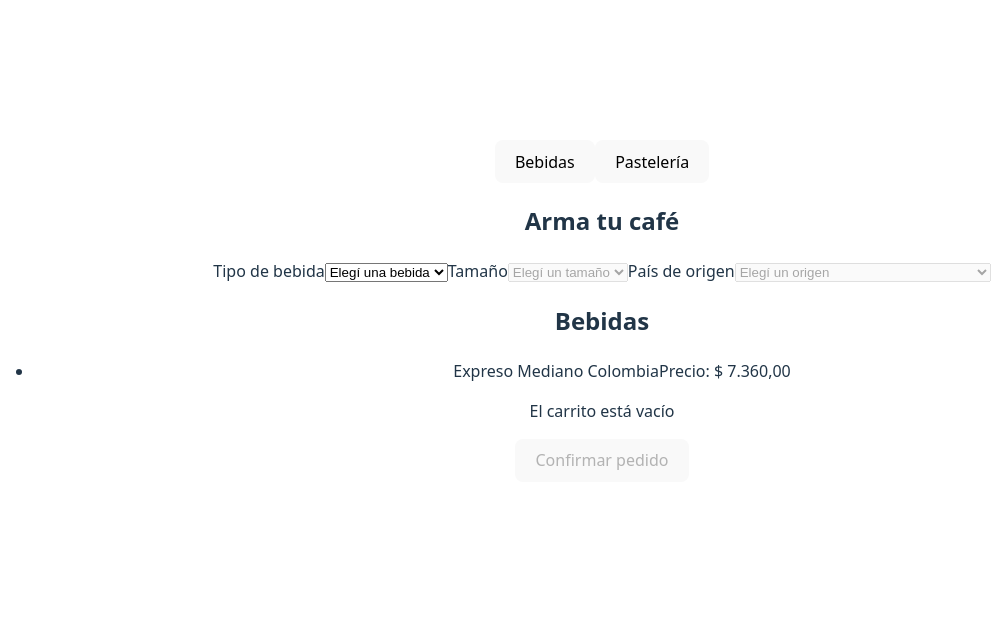
Menu › guia la elección secuencial y agrega la combinación completa al carrito
The width and height of the screenshot is (1008, 627).
expect the dropdown labelled "Tamaño" is disabled: met, box [508, 263, 628, 282]
expect the dropdown labelled "País de origen" is disabled: met, box [735, 263, 991, 282]
Select "Expreso" in the dropdown labelled "Tipo de bebida": (386, 272) [325, 263, 448, 282]
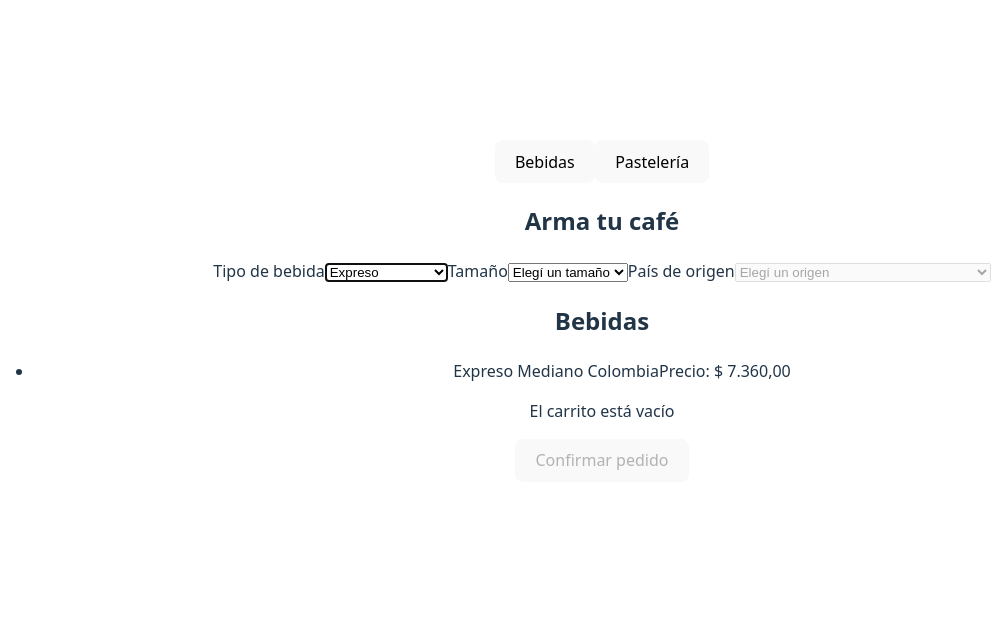
expect the dropdown labelled "País de origen" is disabled: met, box [735, 263, 991, 282]
expect the dropdown labelled "Tamaño" is enabled: met
Select "Mediano" in the dropdown labelled "Tamaño": (568, 272) [508, 263, 628, 282]
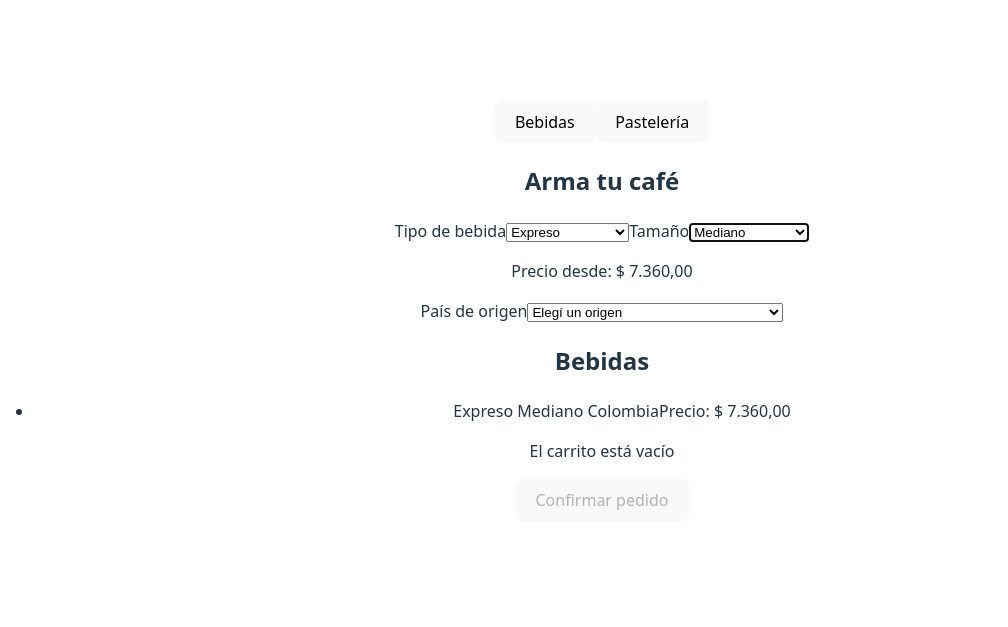
expect the button "Agregar café al carrito" is not shown: met
expect the text "Precio desde: $ 7.360,00" is shown: met, box [511, 260, 693, 282]
expect the dropdown labelled "País de origen" is enabled: met
Select "Colombia — Dulce, equilibrado, frutal." in the dropdown labelled "País de origen": (655, 312) [527, 303, 783, 322]
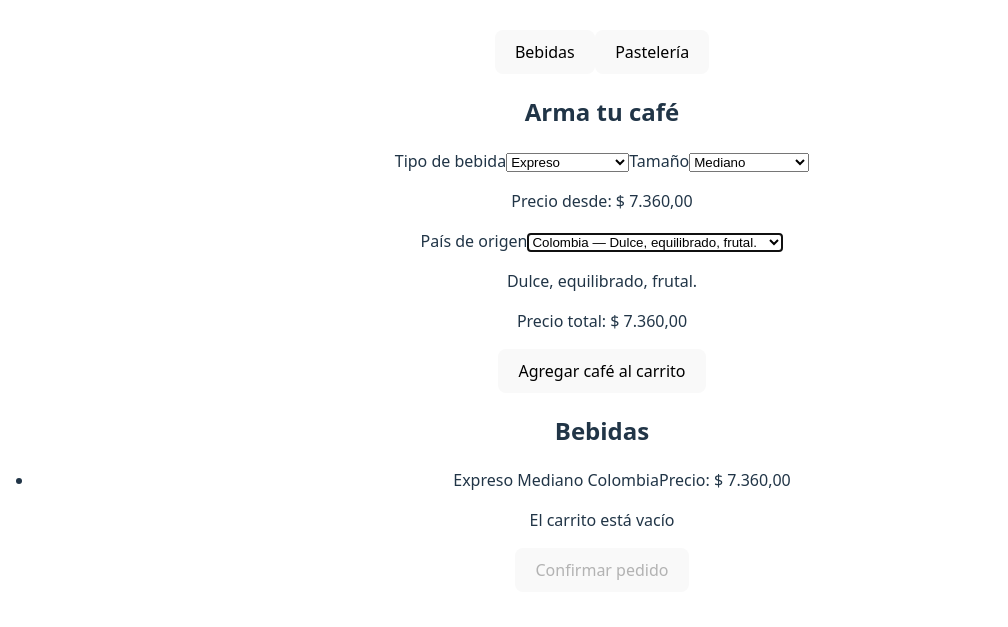
expect the text "Dulce, equilibrado, frutal." is shown: met, box [507, 270, 697, 292]
expect the text "Precio total: $ 7.360,00" is shown: met, box [517, 310, 687, 332]
Click the button "Agregar café al carrito": (602, 371) [498, 349, 706, 393]
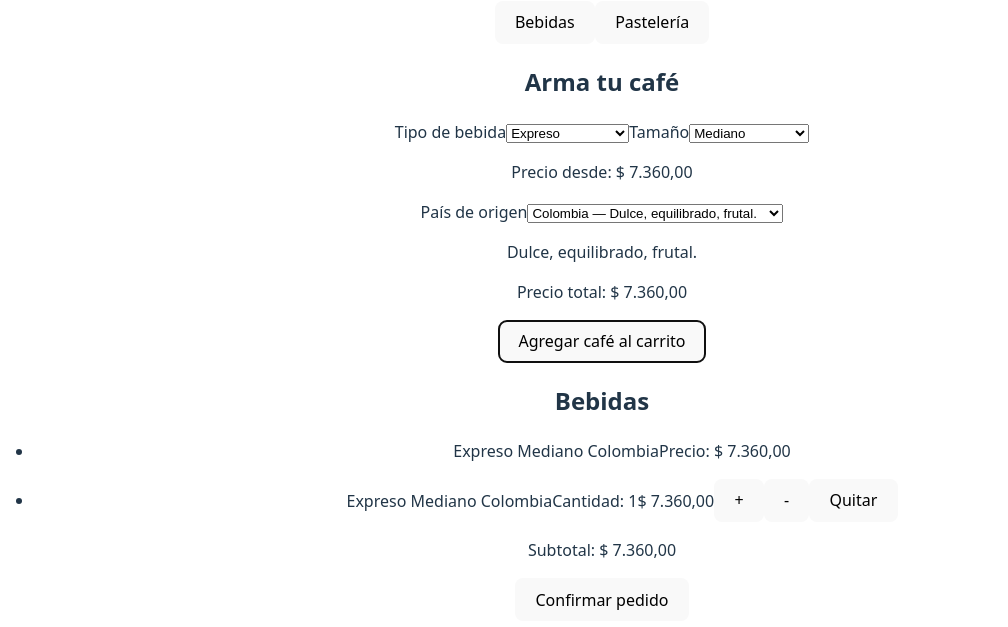
expect the text "Cantidad: 1" is shown: met, box [552, 489, 637, 511]
